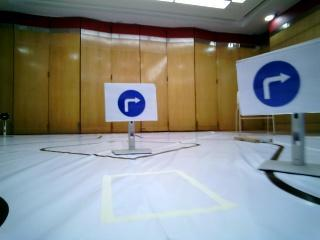right: (238, 60, 314, 106), (106, 84, 155, 121)
